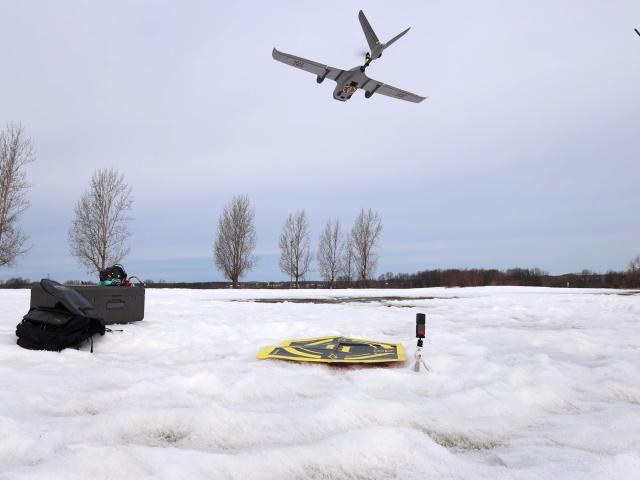plane: (272, 10, 426, 104)
